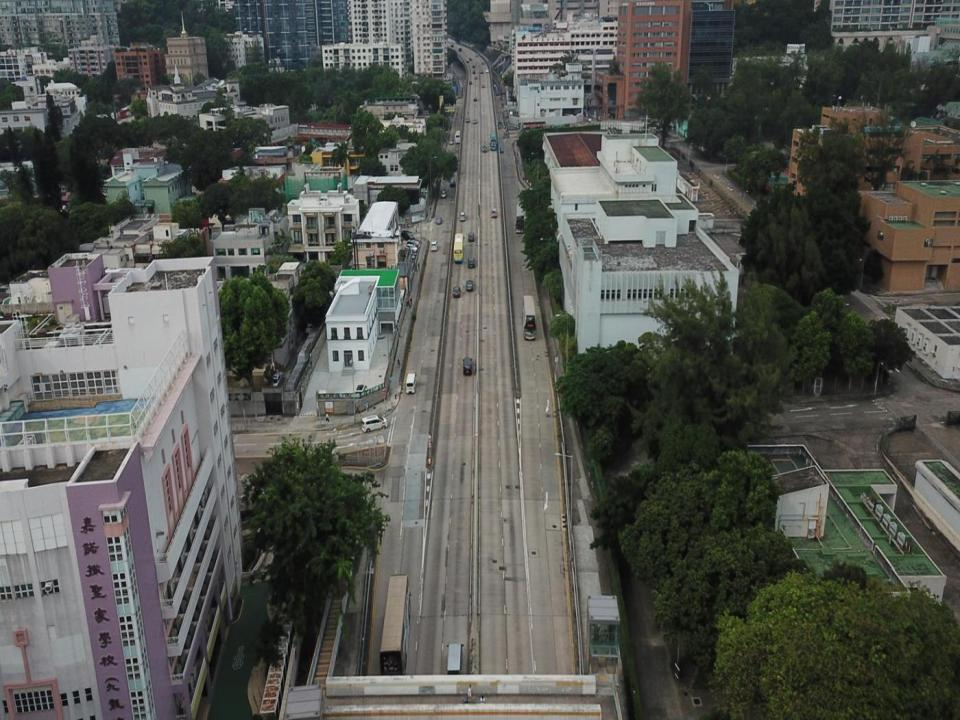bus: (381, 575, 410, 684), (523, 295, 536, 341), (515, 206, 525, 236), (454, 233, 463, 263), (490, 128, 496, 152), (454, 130, 461, 144)
car: (465, 279, 474, 293), (453, 284, 460, 299), (434, 217, 442, 225), (491, 208, 497, 218), (449, 178, 455, 186), (462, 211, 466, 221), (442, 191, 446, 200), (484, 144, 488, 152)
van: (446, 642, 463, 682), (360, 414, 386, 431), (405, 371, 415, 395), (462, 356, 473, 377), (430, 240, 438, 252), (468, 256, 474, 268), (468, 232, 474, 242)
